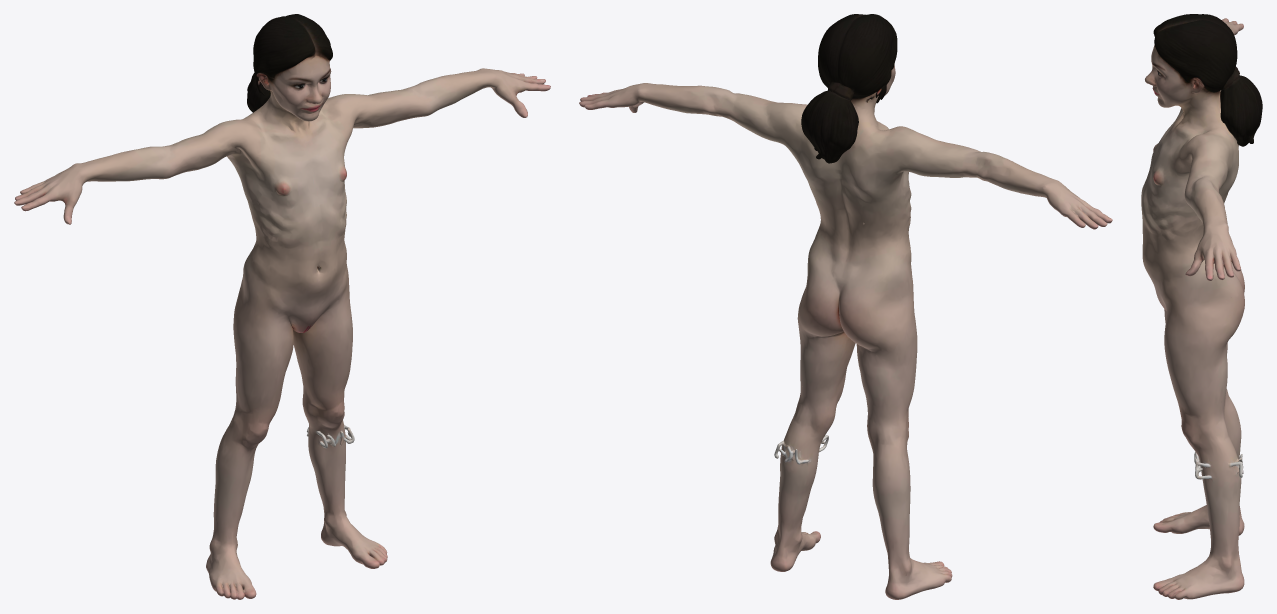
3 renders of one model, left to right at view 1: azimuth 30°, elevation 25°; view 2: azimuth 150°, elevation 25°; view 3: azimuth 270°, elevation 25°, orthographic.
Parts seen in each view (by area): view 1: tripo_node_394a307f-c346-45be-881d-03e91cdd0f08; view 2: tripo_node_394a307f-c346-45be-881d-03e91cdd0f08; view 3: tripo_node_394a307f-c346-45be-881d-03e91cdd0f08.
Part boxes in pixels (<box>): tripo_node_394a307f-c346-45be-881d-03e91cdd0f08: <box>14,14,550,599</box>; tripo_node_394a307f-c346-45be-881d-03e91cdd0f08: <box>579,14,1112,599</box>; tripo_node_394a307f-c346-45be-881d-03e91cdd0f08: <box>1141,14,1262,599</box>.
Size of the model in its own units: 1 by 0.9967 by 0.2012.
Materials: 1 (1 with a texture image).
